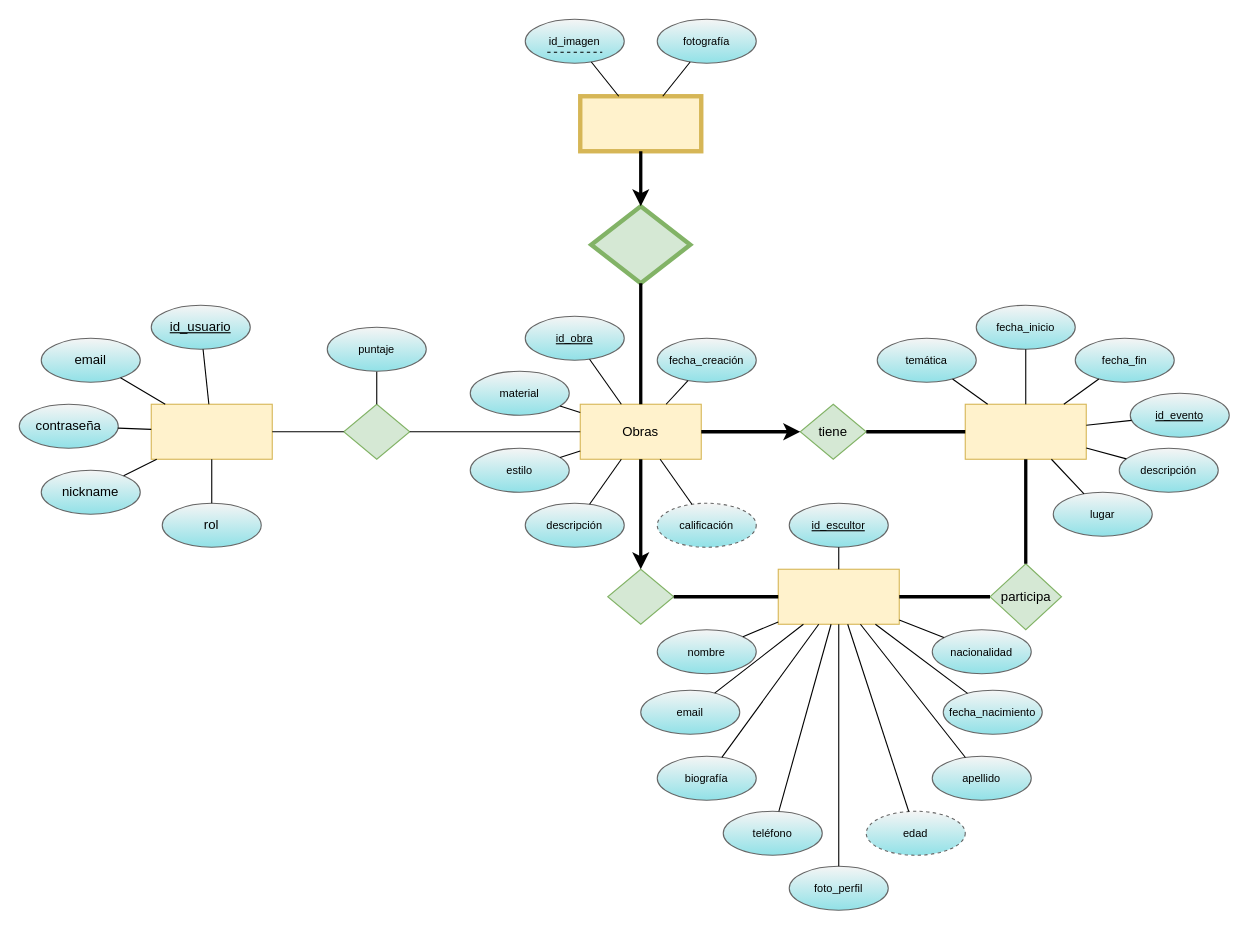
The diagram is 1249 pixels wide and 930 high, and some of its shapes have lost their labels. The box of each missing label's shape, as (x1, y1, x2, y2) in pixels:
compuesta: (588, 204, 692, 285)
crea: (607, 568, 674, 624)
Escultores: (777, 568, 899, 624)
Eventos: (964, 403, 1086, 459)
Imágenes: (578, 94, 703, 153)
Usuarios: (150, 403, 272, 459)
vota: (343, 403, 410, 459)
